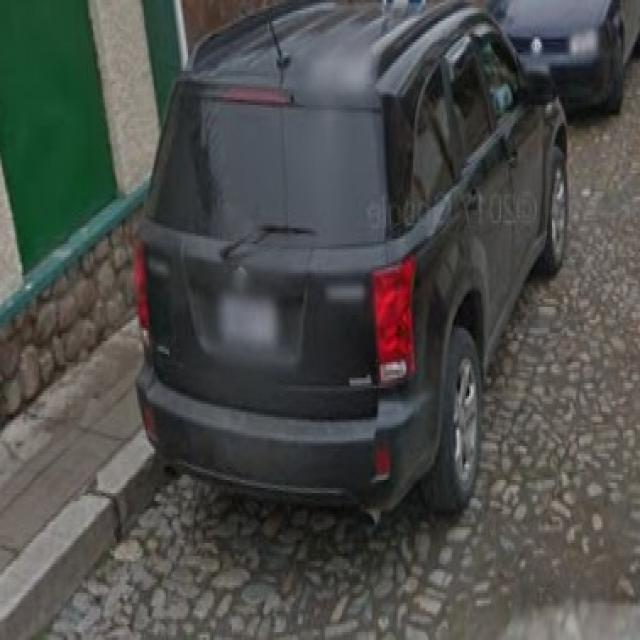car: (118, 7, 590, 530), (117, 0, 561, 485)
